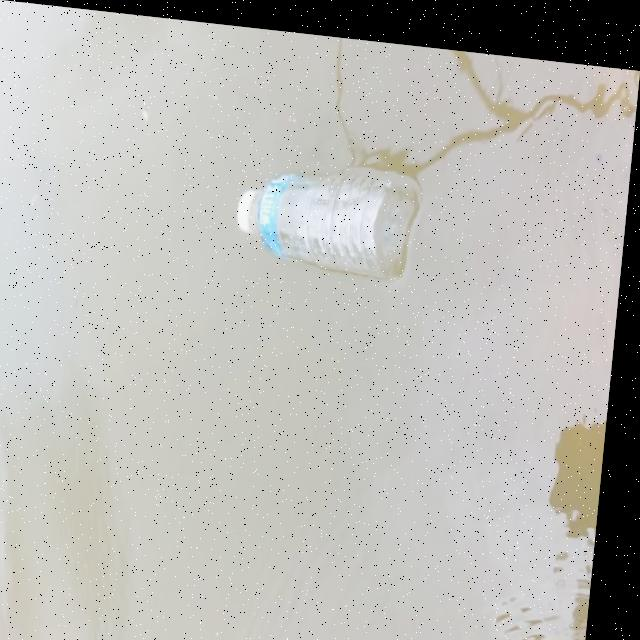waterbottle: (217, 124, 453, 307)
